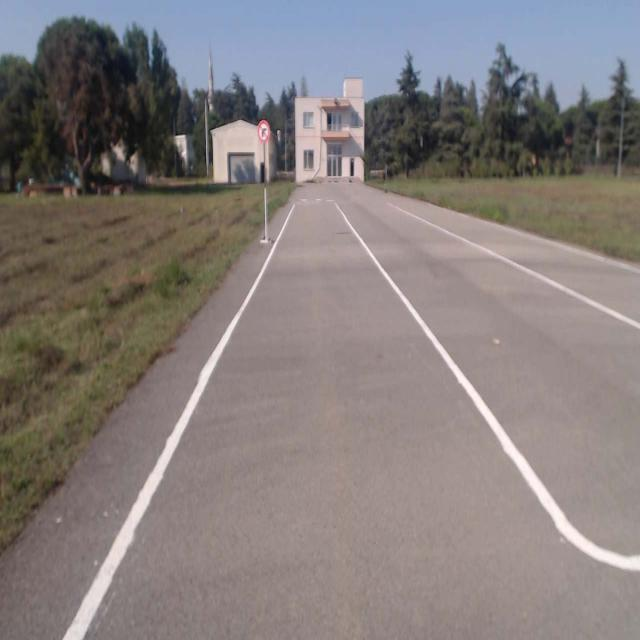sagadonulmez: (258, 121, 270, 141)
